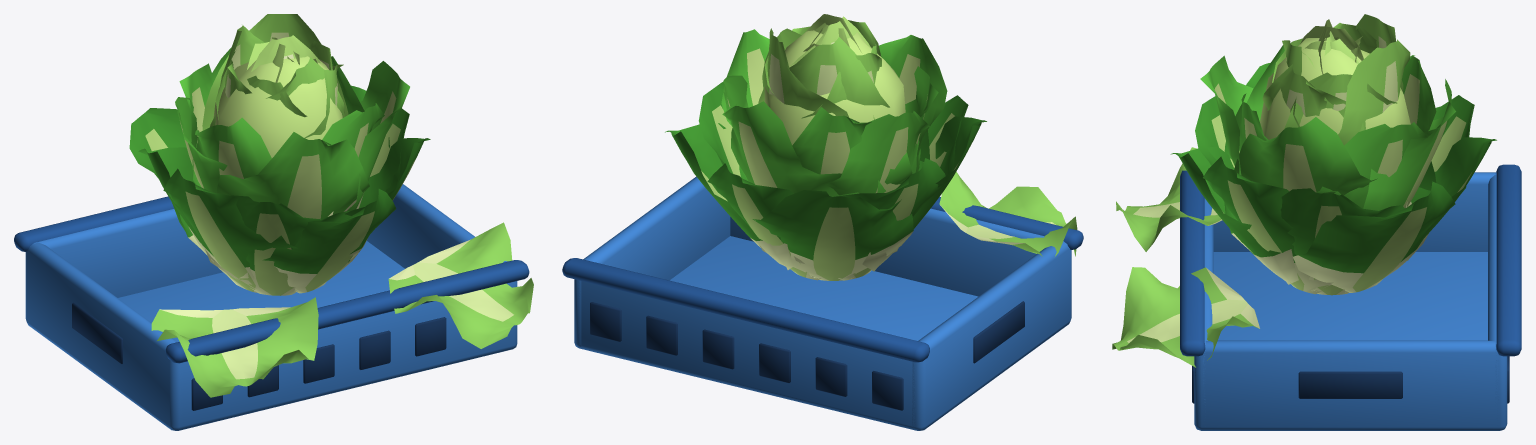
The model's file is dispenser_lettuce.glb.
3 renders of one model, left to right at view 1: azimuth 30°, elevation 25°; view 2: azimuth 150°, elevation 25°; view 3: azimuth 270°, elevation 25°, orthographic. The views are drawn at different scales.
Parts seen in each view (by area): view 1: DispenserLettuce; view 2: DispenserLettuce; view 3: DispenserLettuce.
Boxes of the visible parts, <box> form: DispenserLettuce: <box>14,14,533,430</box>; DispenserLettuce: <box>562,14,1083,430</box>; DispenserLettuce: <box>1112,14,1521,430</box>.
Bounding box in the file's own units: 5.76 × 4.76 × 5.49.
